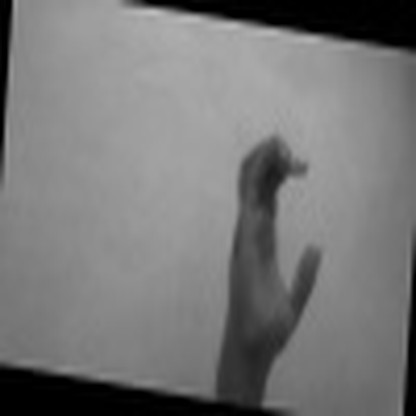c: (226, 125, 329, 351)
